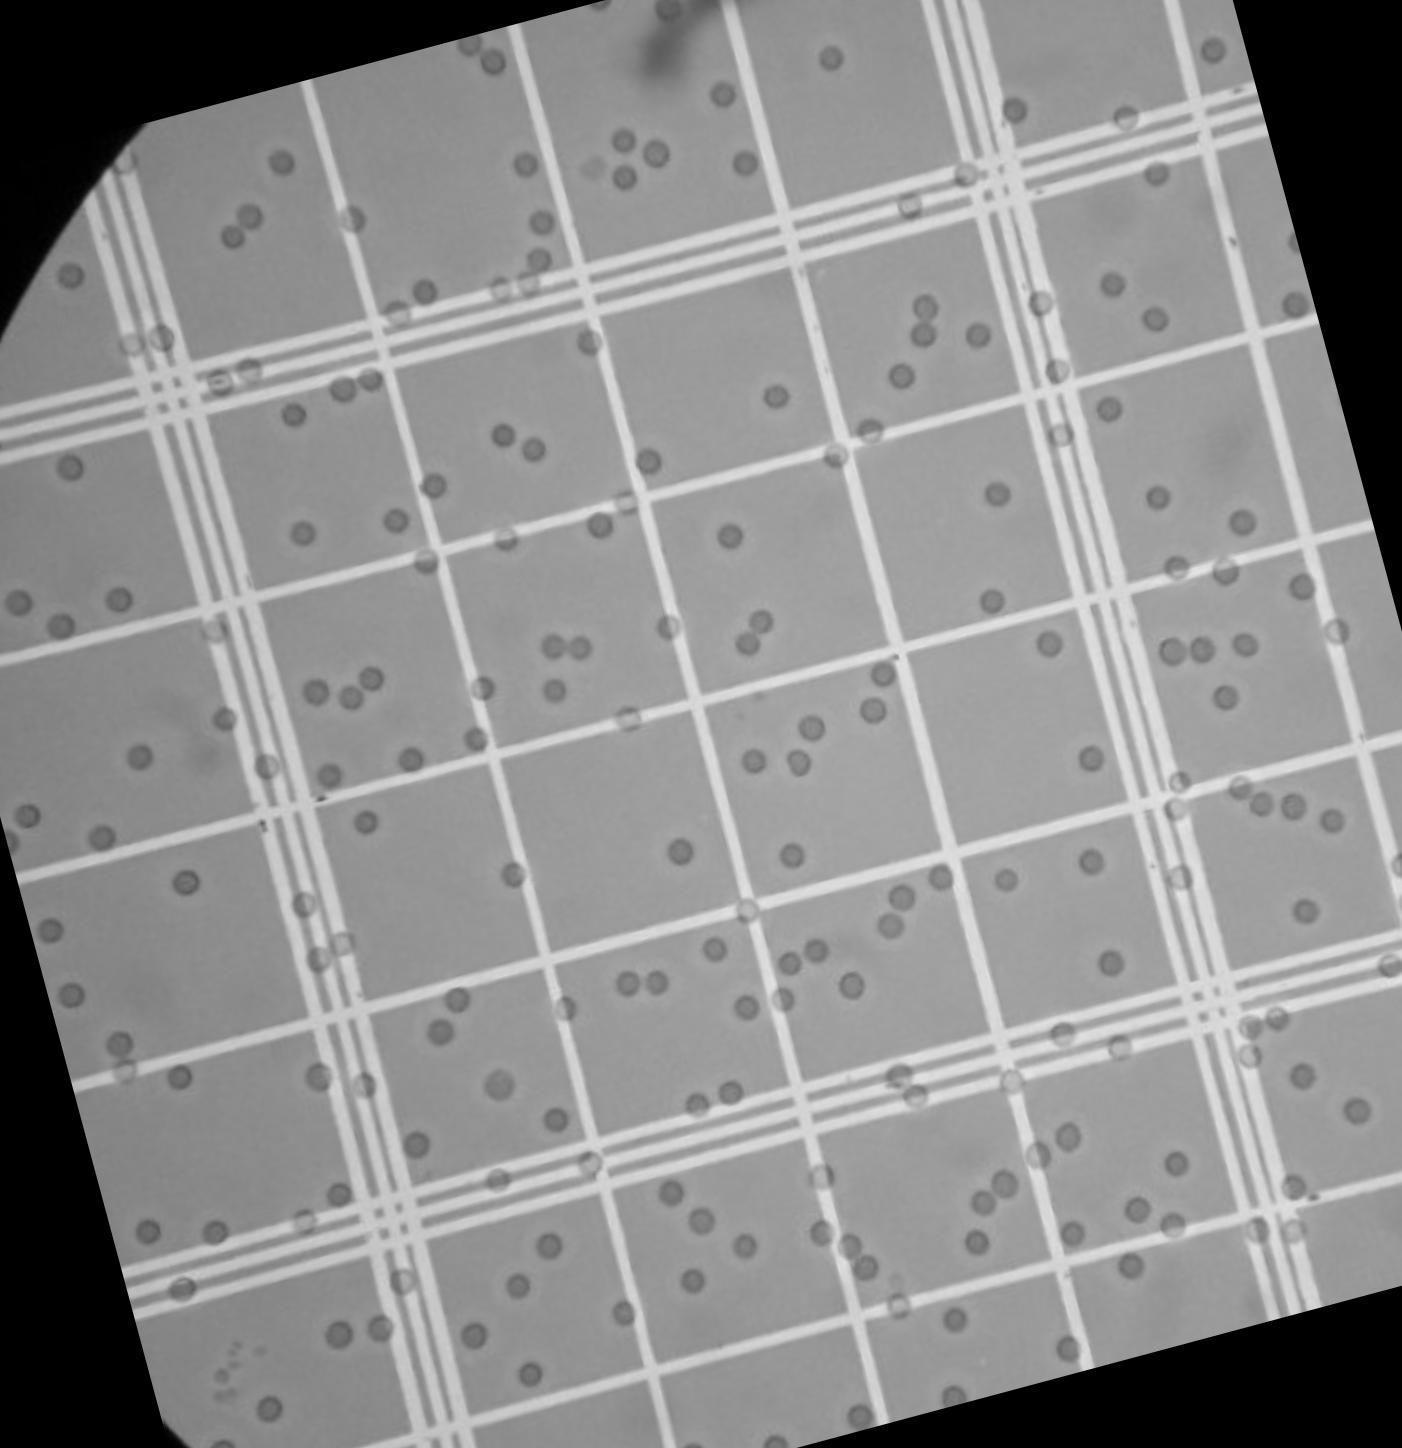cell: (485, 1068, 515, 1098), (418, 472, 448, 502), (1211, 555, 1240, 584), (56, 452, 84, 484), (382, 300, 413, 328), (305, 1063, 334, 1092), (325, 1320, 354, 1348), (1227, 507, 1257, 535), (147, 323, 176, 352), (206, 368, 234, 397), (642, 140, 670, 168), (1002, 97, 1031, 125), (1289, 571, 1318, 600), (56, 262, 85, 290), (329, 374, 356, 403), (103, 584, 133, 612), (47, 613, 76, 640), (105, 1030, 135, 1058), (586, 511, 616, 538), (338, 204, 367, 231), (991, 1171, 1020, 1198), (1055, 1121, 1083, 1151), (428, 1017, 455, 1046), (389, 1267, 418, 1294), (857, 418, 886, 445), (896, 190, 923, 218), (859, 697, 887, 724), (1159, 637, 1187, 665), (1344, 1098, 1372, 1125), (1049, 1021, 1077, 1049), (6, 590, 34, 617), (542, 1105, 569, 1133), (169, 1277, 197, 1304), (535, 1233, 563, 1261), (733, 993, 760, 1020), (735, 897, 762, 924), (839, 972, 867, 999), (1280, 290, 1308, 317), (1322, 617, 1349, 644), (1238, 1014, 1265, 1041), (235, 358, 264, 384), (172, 869, 200, 895), (442, 988, 471, 1014), (576, 1151, 604, 1176), (667, 836, 693, 865), (634, 449, 662, 474), (823, 441, 848, 469), (616, 705, 642, 733), (1202, 35, 1227, 63), (1213, 684, 1242, 710), (1026, 1142, 1051, 1170), (288, 892, 318, 917), (516, 270, 541, 300), (357, 365, 384, 390), (58, 981, 84, 1008), (349, 1073, 376, 1099), (501, 862, 528, 888), (404, 1131, 429, 1158), (485, 1167, 511, 1195), (504, 1273, 530, 1301), (770, 986, 795, 1014), (383, 508, 409, 535), (413, 278, 438, 305), (733, 150, 759, 177), (576, 330, 603, 356), (890, 362, 916, 389), (797, 714, 824, 740), (870, 661, 898, 687), (804, 939, 832, 964), (808, 1164, 836, 1189), (845, 1403, 872, 1429), (1114, 103, 1139, 131), (1028, 288, 1054, 315), (909, 321, 936, 346), (1095, 396, 1123, 421), (983, 481, 1010, 507), (1036, 630, 1062, 657), (1077, 745, 1105, 771), (1190, 637, 1216, 665), (1165, 862, 1192, 888), (1280, 1174, 1308, 1200), (1292, 1063, 1318, 1090), (235, 203, 264, 228), (762, 384, 790, 409), (887, 1292, 912, 1320), (914, 292, 939, 321), (1080, 846, 1105, 874), (1377, 952, 1402, 980), (219, 224, 244, 250), (331, 930, 357, 955), (462, 1321, 488, 1347), (688, 1209, 714, 1235), (303, 679, 329, 705), (469, 675, 495, 701), (290, 520, 316, 546), (610, 127, 636, 153), (786, 749, 812, 774), (889, 884, 914, 910), (1164, 555, 1190, 580), (1108, 1036, 1134, 1061), (125, 743, 153, 768), (369, 1314, 393, 1341), (257, 1394, 282, 1421), (526, 246, 551, 273), (529, 208, 554, 235), (512, 151, 539, 176), (1142, 305, 1169, 330), (279, 403, 308, 427), (88, 825, 114, 849), (114, 1058, 138, 1083), (169, 1065, 194, 1091), (307, 946, 331, 972), (203, 1219, 228, 1245), (294, 1208, 318, 1233), (682, 1268, 706, 1294), (658, 1179, 683, 1205), (255, 752, 279, 778), (202, 618, 228, 643), (414, 548, 438, 574), (612, 165, 638, 190), (819, 43, 843, 69), (718, 522, 742, 548), (569, 633, 594, 659), (879, 913, 904, 939), (810, 1220, 834, 1246), (836, 1233, 860, 1259), (954, 160, 979, 186), (1145, 162, 1169, 187), (967, 321, 992, 346), (1044, 357, 1070, 381), (929, 864, 953, 889), (995, 868, 1019, 893), (1230, 774, 1255, 800), (1295, 900, 1321, 924), (973, 1191, 997, 1217), (1280, 1218, 1306, 1242), (1238, 1045, 1264, 1069), (490, 275, 513, 303), (855, 1255, 878, 1283), (1246, 1215, 1269, 1242), (16, 803, 40, 827), (353, 811, 378, 835), (616, 971, 640, 995), (317, 764, 341, 789), (339, 685, 363, 710), (360, 666, 384, 690), (269, 150, 294, 175), (481, 48, 506, 72), (541, 633, 565, 658), (980, 587, 1005, 612), (1099, 950, 1124, 975), (904, 1086, 929, 1111), (965, 1230, 989, 1254), (326, 1183, 352, 1206), (613, 1301, 636, 1326), (645, 970, 669, 995), (713, 81, 736, 107), (749, 610, 775, 633), (1049, 423, 1075, 446), (1145, 486, 1170, 509), (886, 1064, 912, 1087), (654, 1, 682, 23), (1231, 633, 1258, 655), (1161, 1211, 1183, 1239), (119, 332, 144, 356), (213, 707, 238, 730), (38, 919, 62, 942), (135, 1220, 159, 1244), (519, 1361, 542, 1386), (732, 1233, 757, 1257), (398, 746, 422, 771), (616, 490, 639, 515), (658, 614, 682, 639), (780, 844, 804, 868), (1102, 271, 1127, 295), (1164, 796, 1189, 820), (1321, 811, 1345, 834), (1001, 1069, 1026, 1092), (1251, 793, 1273, 818), (1058, 1336, 1080, 1361), (939, 1383, 967, 1403), (685, 1094, 709, 1117), (719, 1081, 742, 1104), (493, 527, 516, 551), (944, 1308, 967, 1332), (554, 995, 576, 1020), (466, 727, 488, 751), (545, 677, 566, 702), (736, 632, 760, 654), (742, 749, 764, 773), (1283, 795, 1304, 821), (1128, 1195, 1149, 1220), (704, 937, 726, 961), (779, 952, 801, 975), (523, 438, 545, 462), (1168, 771, 1191, 793), (1266, 1008, 1289, 1030), (1063, 1220, 1084, 1245), (491, 424, 513, 446), (458, 37, 481, 58), (1123, 1251, 1141, 1276), (1167, 1151, 1185, 1174)
